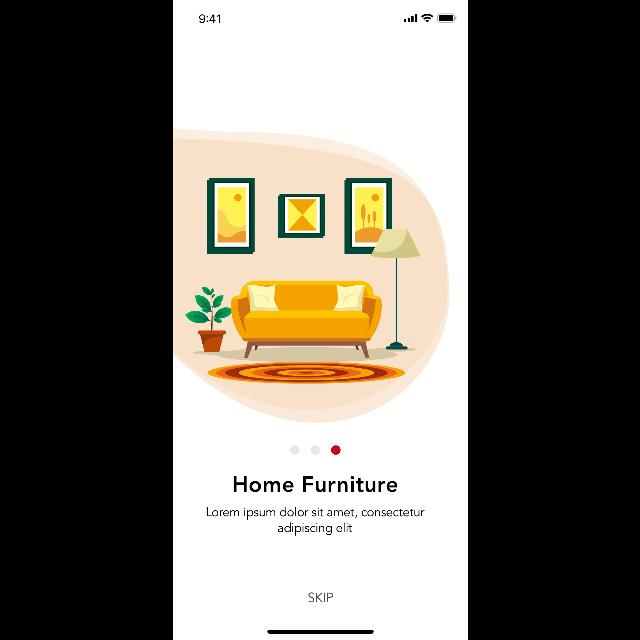image: (185, 178, 421, 384)
pageindicator: (290, 446, 340, 454)
text: (206, 506, 424, 536), (233, 476, 397, 492), (308, 593, 332, 603)
uppertaskbar: (198, 14, 456, 22)
